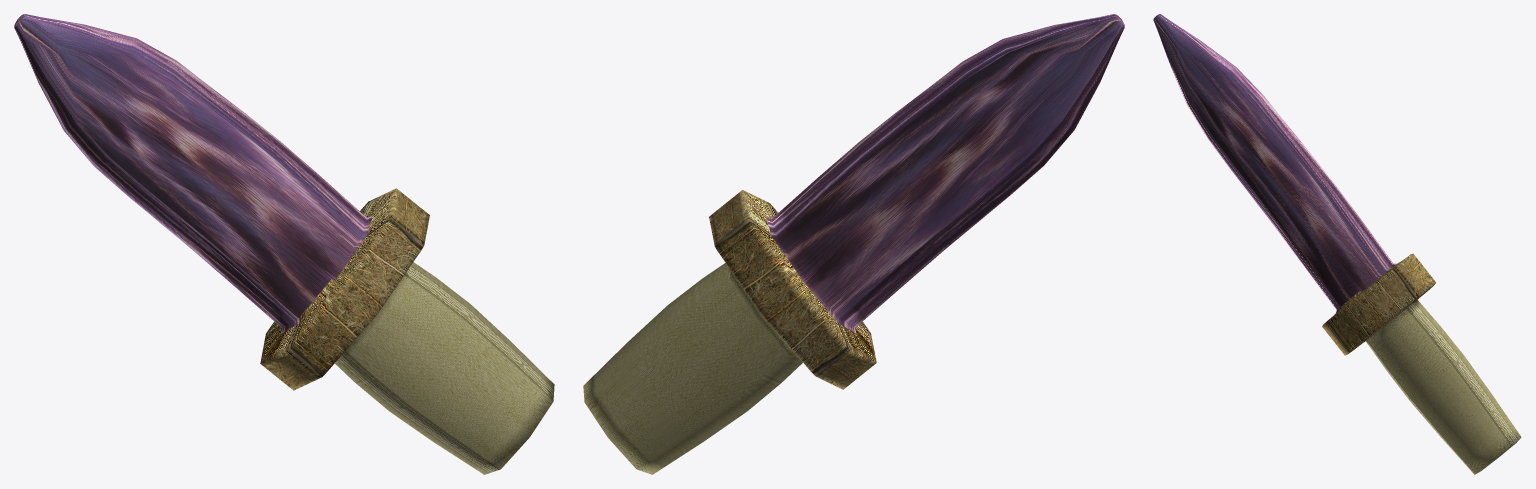
Rendered from sword2_rendaring.FBX.
3 renders of one model, left to right at view 1: azimuth 30°, elevation 25°; view 2: azimuth 150°, elevation 25°; view 3: azimuth 330°, elevation 25°, orthographic. The views are drawn at different scales.
Visible parts, largest first — view 1: Box001; view 2: Box001; view 3: Box001.
Part boxes in pixels (x1,y1,x2,y2): Box001: (14, 14, 554, 474); Box001: (583, 14, 1124, 474); Box001: (1153, 14, 1521, 474).
Size of the model in its own units: 94.97 by 9.13 by 96.22.
Materials: 3 (3 with a texture image).
